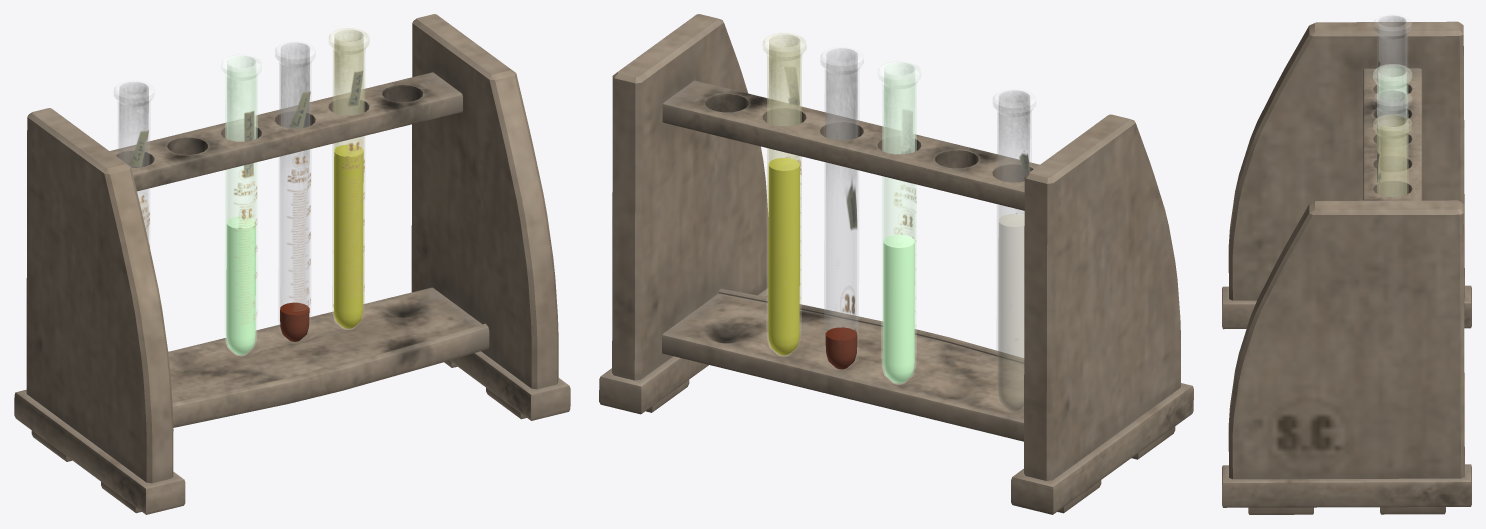
File: reagenzglaeser.glb
The picture shows the model from 3 angles, left to right: view 1: azimuth 30°, elevation 25°; view 2: azimuth 150°, elevation 25°; view 3: azimuth 270°, elevation 25°; orthographic projection. The views are drawn at different scales.
Parts seen in each view (by area): view 1: Body_Atril_0, MotaLiquid_Mota_0, Pichi_Pichi_0, GanasDeVivir_Vivir_0, Capel_Capel_0; view 2: Body_Atril_0, MotaLiquid_Mota_0, Pichi_Pichi_0, GanasDeVivir_Vivir_0, Capel_Capel_0; view 3: Body_Atril_0, Pichi_Pichi_0, Capel_Capel_0, MotaLiquid_Mota_0, GanasDeVivir_Vivir_0.
Part boxes in pixels (x1=…): Body_Atril_0: x1=14, y1=14, x2=570, y2=514; MotaLiquid_Mota_0: x1=221, y1=54, x2=261, y2=355; Pichi_Pichi_0: x1=329, y1=28, x2=369, y2=329; GanasDeVivir_Vivir_0: x1=275, y1=41, x2=315, y2=342; Capel_Capel_0: x1=114, y1=81, x2=153, y2=246; Body_Atril_0: x1=599, y1=14, x2=1193, y2=514; MotaLiquid_Mota_0: x1=878, y1=61, x2=921, y2=384; Pichi_Pichi_0: x1=763, y1=33, x2=806, y2=356; GanasDeVivir_Vivir_0: x1=821, y1=47, x2=863, y2=369; Capel_Capel_0: x1=993, y1=89, x2=1035, y2=411; Body_Atril_0: x1=1222, y1=21, x2=1471, y2=514; Pichi_Pichi_0: x1=1373, y1=114, x2=1411, y2=197; Capel_Capel_0: x1=1373, y1=14, x2=1411, y2=89; MotaLiquid_Mota_0: x1=1373, y1=64, x2=1411, y2=137; GanasDeVivir_Vivir_0: x1=1373, y1=89, x2=1411, y2=151.
Size of the model in its own units: 23.71 by 18.84 by 12.71.
5 materials, 5 textured.
